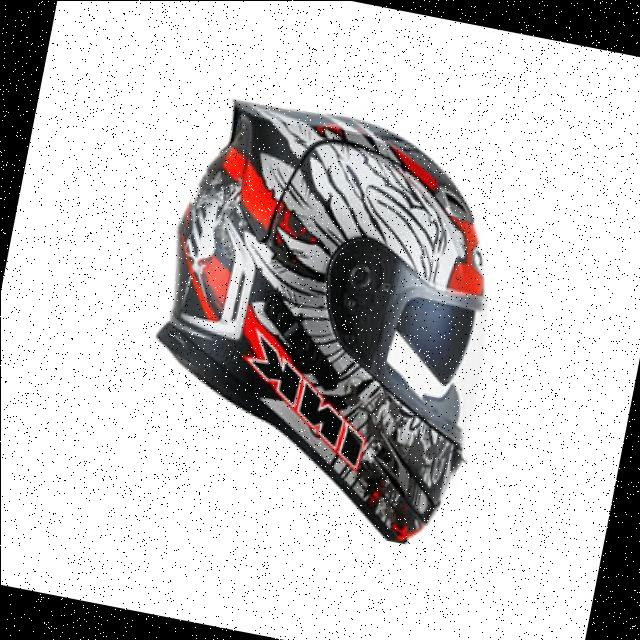Helm: (100, 76, 533, 558)
